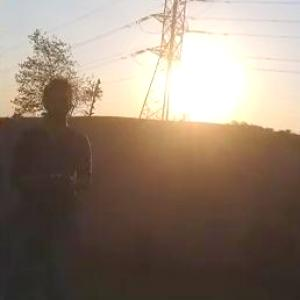follow: (7, 74, 99, 299)
